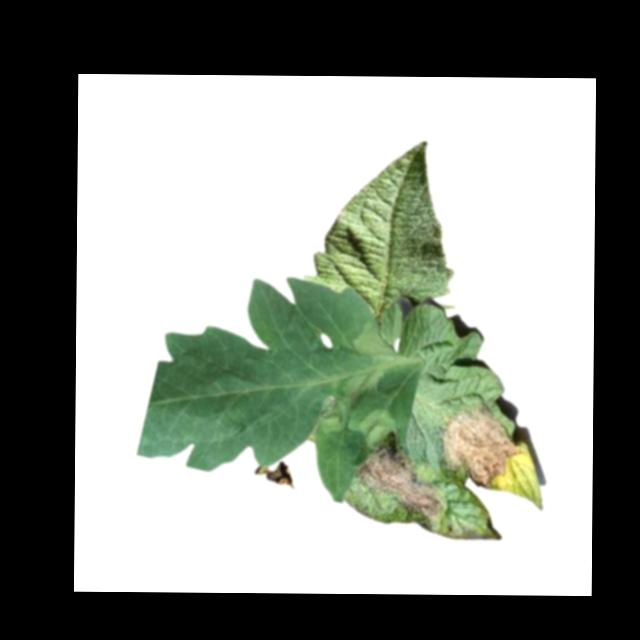Late_blight: (437, 403, 526, 493), (355, 433, 448, 519), (354, 320, 400, 364), (359, 406, 402, 451), (344, 362, 388, 395), (318, 394, 350, 433), (262, 460, 295, 493)
healthy: (303, 138, 457, 316)
